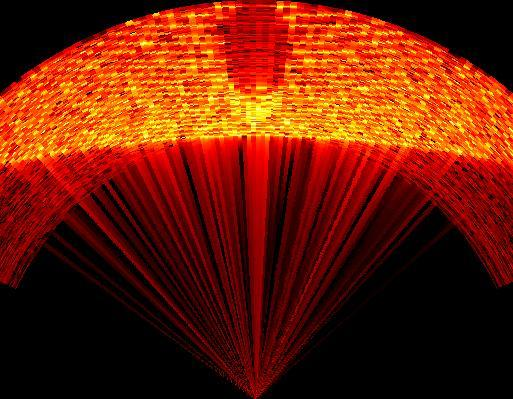box_crate: (215, 0, 292, 90)
